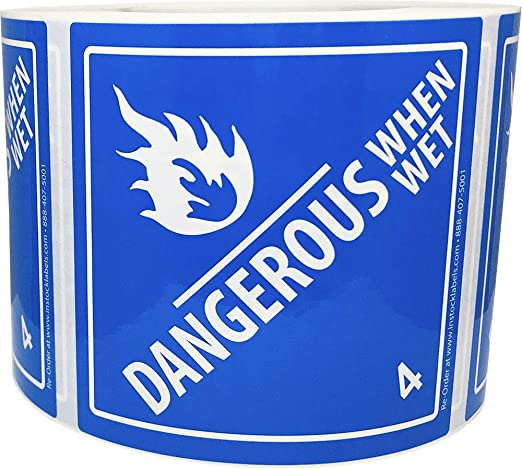Dangerous when wet: (69, 17, 483, 465), (1, 19, 57, 419)
